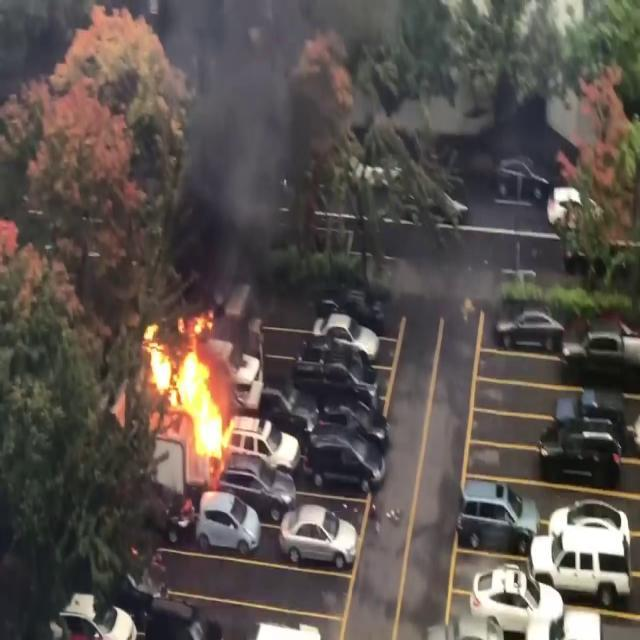Fire: (138, 314, 242, 466)
Smoke: (153, 0, 341, 300)
